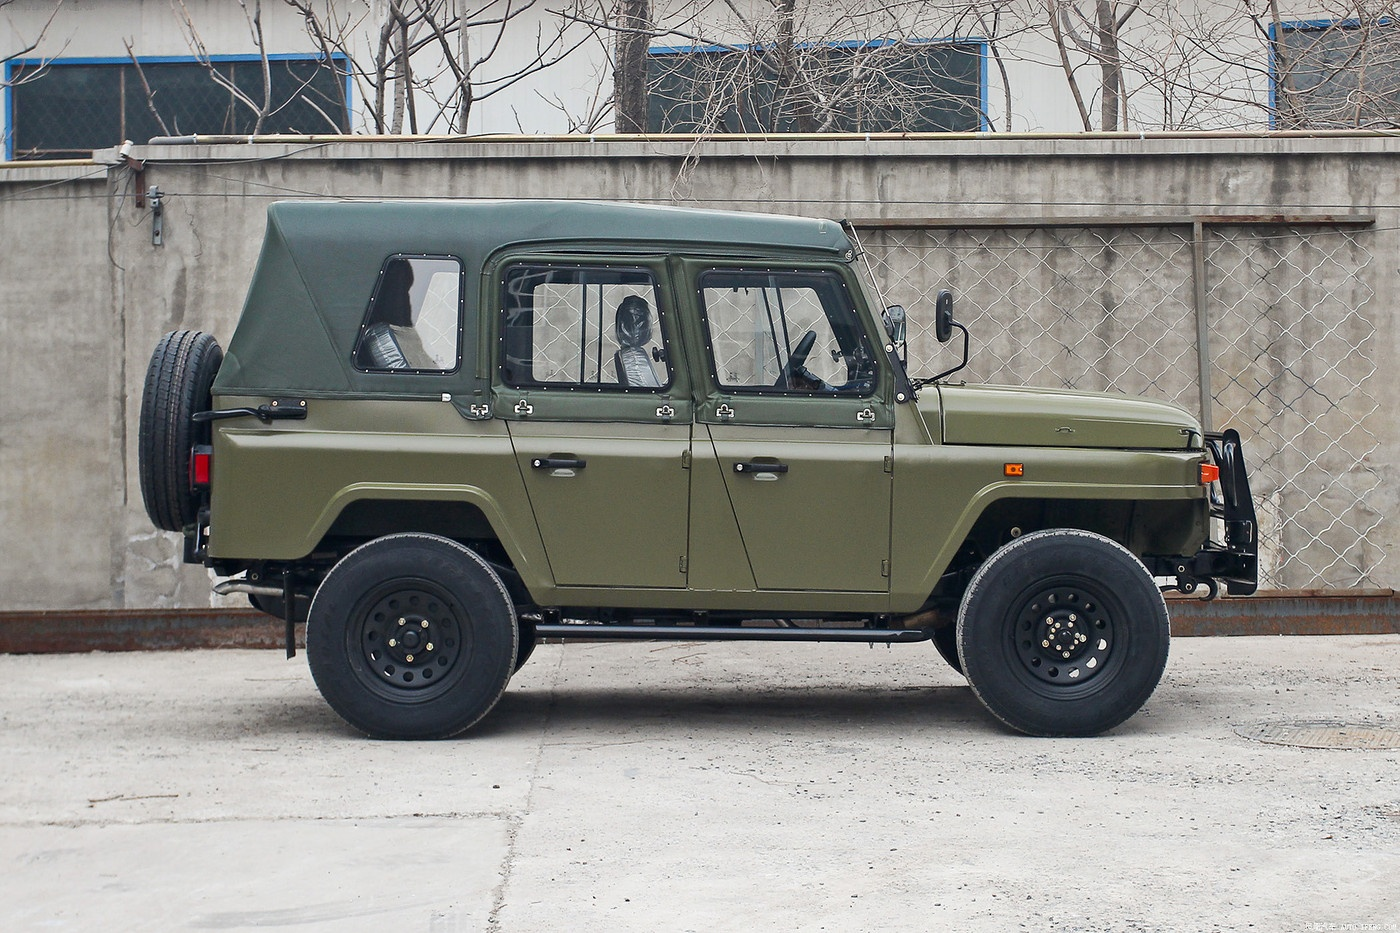jeep: (154, 202, 1268, 750)
